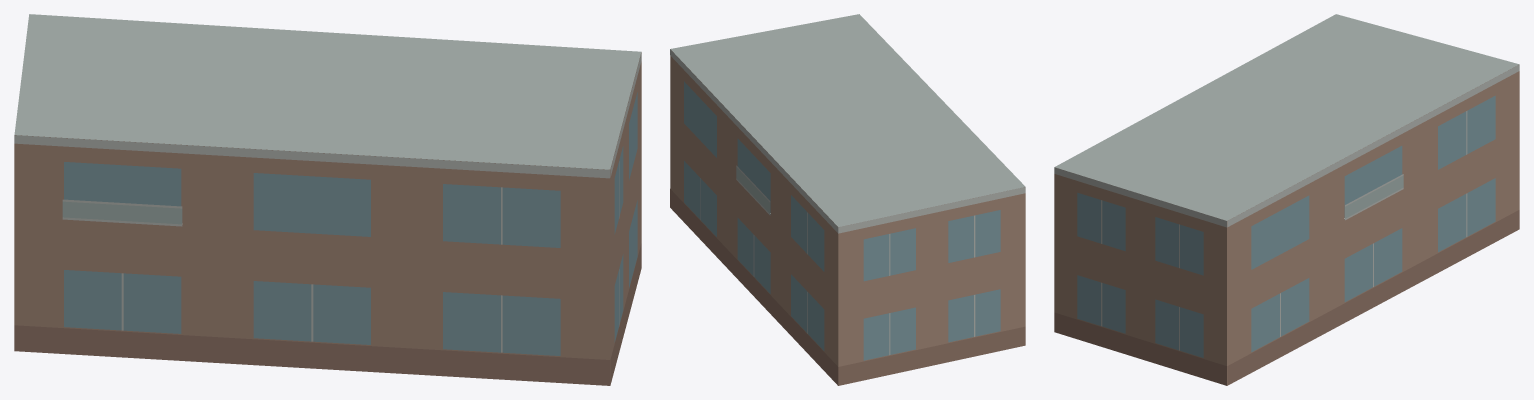
The model's file is survey-upis-32660289.glb.
3 renders of one model, left to right at view 1: azimuth 30°, elevation 25°; view 2: azimuth 150°, elevation 25°; view 3: azimuth 270°, elevation 25°, orthographic. The views are drawn at different scales.
Parts seen in each view (by area): view 1: survey-upis-32660289.tmp; view 2: survey-upis-32660289.tmp; view 3: survey-upis-32660289.tmp.
Boxes of the visible parts, left/top/right/bottom form: survey-upis-32660289.tmp: left=14, top=14, right=641, bottom=385; survey-upis-32660289.tmp: left=670, top=14, right=1025, bottom=385; survey-upis-32660289.tmp: left=1054, top=14, right=1519, bottom=385.
Size of the model in its own units: 16.43 by 6.1 by 15.61.
